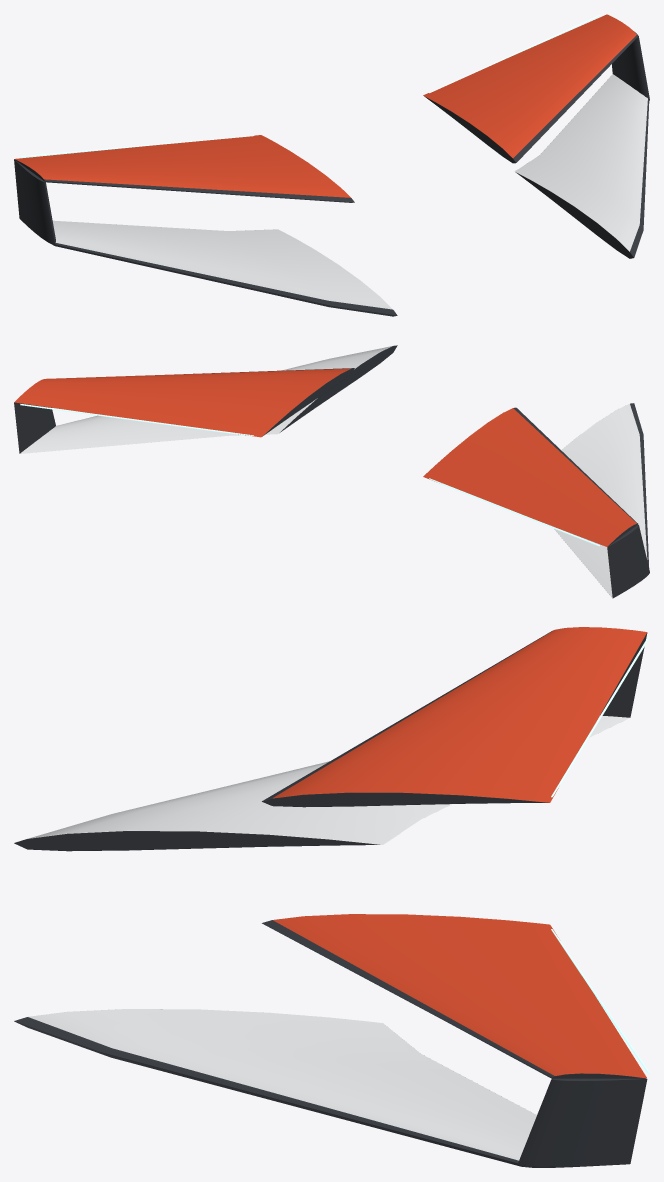
File: vortex_wing_lg.fbx
3 renders of one model, top to bottom at view 1: azimuth 30°, elevation 25°; view 2: azimuth 150°, elevation 25°; view 3: azimuth 270°, elevation 25°, orthographic. The views are drawn at different scales.
Visible parts, largest first — view 1: Wing_Box_L, Wing_Box_R; view 2: Wing_Box_L, Wing_Box_R; view 3: Wing_Box_R, Wing_Box_L.
Boxes of the visible parts, x1=… form: Wing_Box_L: x1=14, y1=135, x2=397, y2=316; Wing_Box_R: x1=423, y1=14, x2=649, y2=258; Wing_Box_L: x1=423, y1=403, x2=649, y2=598; Wing_Box_R: x1=14, y1=345, x2=397, y2=453; Wing_Box_R: x1=14, y1=914, x2=649, y2=1167; Wing_Box_L: x1=14, y1=627, x2=649, y2=851.
Bounding box in the file's own units: 345 × 33.76 × 205.
